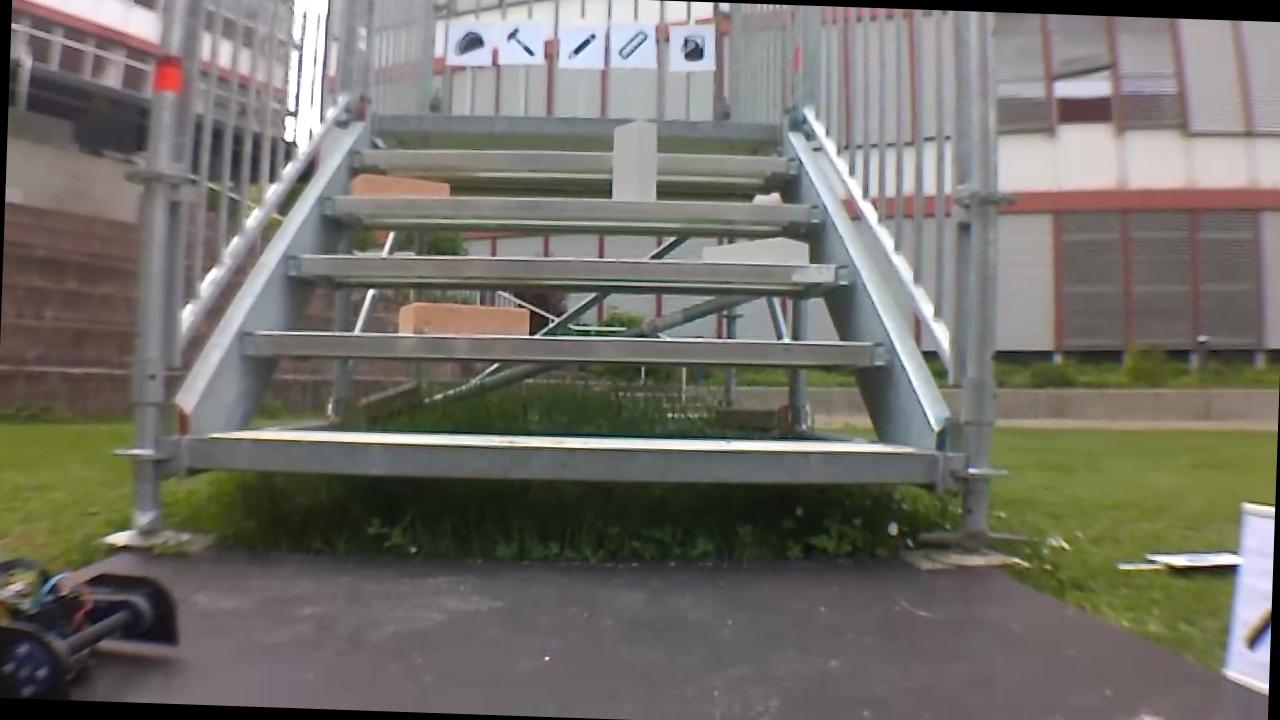brick: (399, 302, 528, 337), (612, 120, 658, 199), (701, 235, 807, 264), (349, 173, 448, 197)
bucket: (672, 28, 711, 66)
edge: (189, 426, 930, 490), (242, 320, 888, 370), (285, 244, 851, 290), (321, 185, 822, 224), (351, 142, 803, 177), (374, 108, 782, 141)
hammer: (499, 24, 537, 58)
pencil: (561, 28, 600, 62)
ruler: (616, 24, 652, 64)
steps: (183, 96, 952, 508)
taco: (448, 26, 488, 60)
